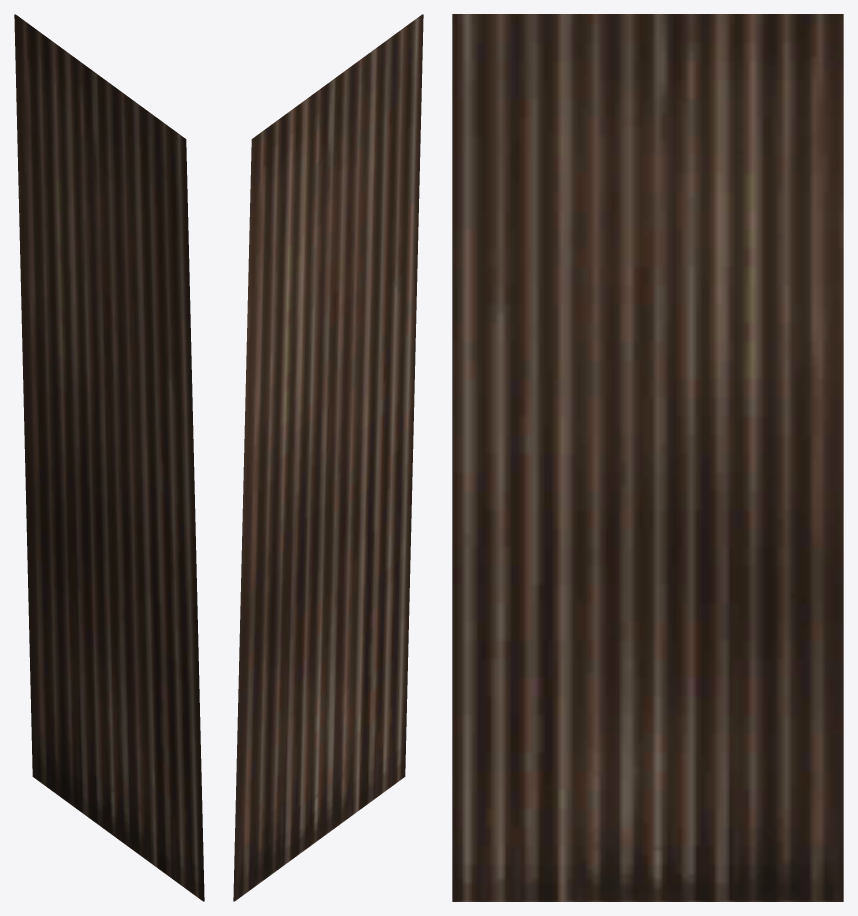
File: platebrown019_plates_0_lev1.glb
3 views of the same model, side by side, from view 1: azimuth 30°, elevation 25°; view 2: azimuth 150°, elevation 25°; view 3: azimuth 270°, elevation 25° (orthographic). The views are drawn at different scales.
Parts seen in each view (by area): view 1: platebrown019_plates_0_lev1; view 2: platebrown019_plates_0_lev1; view 3: platebrown019_plates_0_lev1.
Boxes of the visible parts, left/top/right/bottom form: platebrown019_plates_0_lev1: left=14, top=14, right=204, bottom=901; platebrown019_plates_0_lev1: left=233, top=14, right=423, bottom=901; platebrown019_plates_0_lev1: left=452, top=14, right=843, bottom=901.
Size of the model in its own units: 0.0189 by 0.7245 by 0.2929.
1 material, 1 textured.
